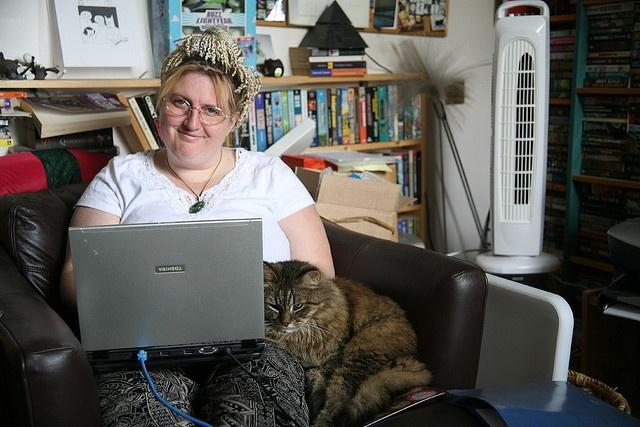Rak: (279, 67, 428, 245)
